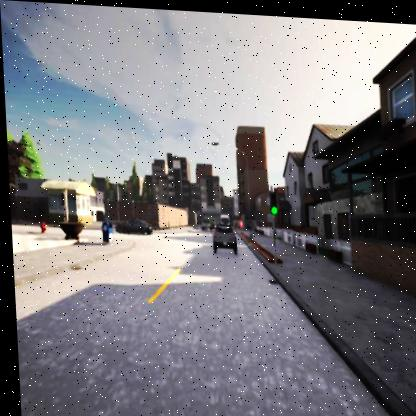vehicle: (207, 223, 235, 250), (113, 217, 152, 234)
